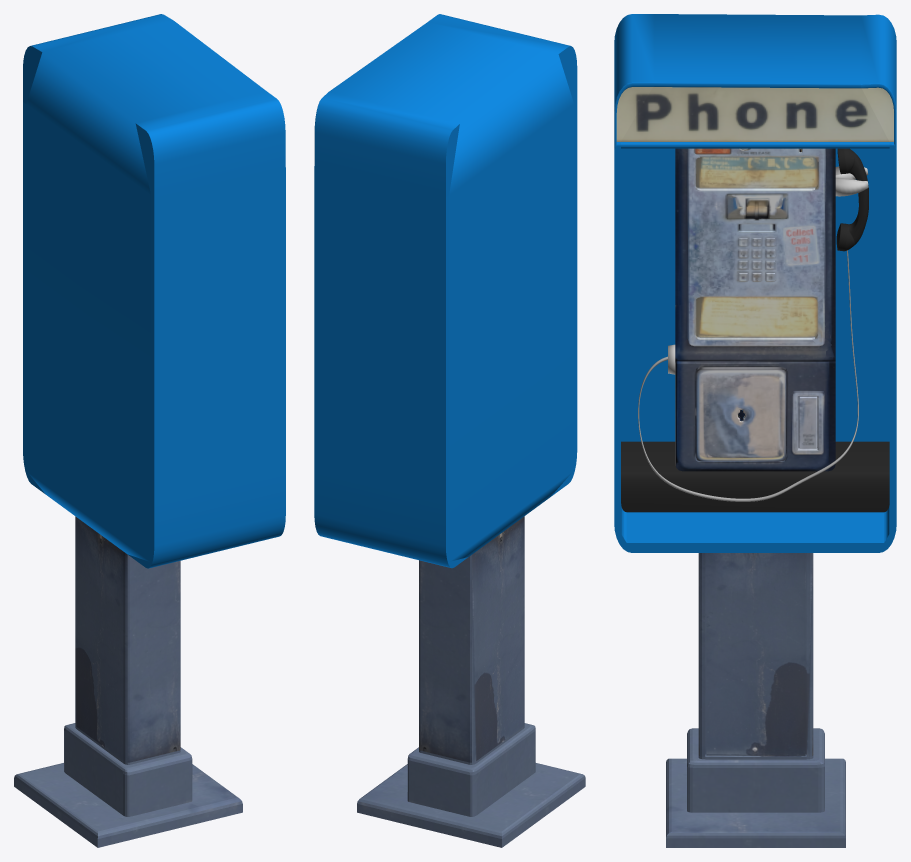
File: Blue Phone Booth.fbx
3 renders of one model, left to right at view 1: azimuth 30°, elevation 25°; view 2: azimuth 150°, elevation 25°; view 3: azimuth 270°, elevation 25°, orthographic. The views are drawn at different scales.
Parts seen in each view (by area): view 1: Phone Booth; view 2: Phone Booth; view 3: Phone Booth.
Part boxes in pixels (x1,y1,x2,y2): Phone Booth: (14, 14, 285, 847); Phone Booth: (314, 14, 585, 847); Phone Booth: (614, 14, 896, 847).
Size of the model in its own units: 361 by 1493 by 493.
